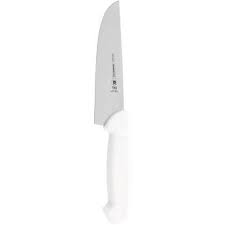kuchillu: (89, 1, 130, 224)
